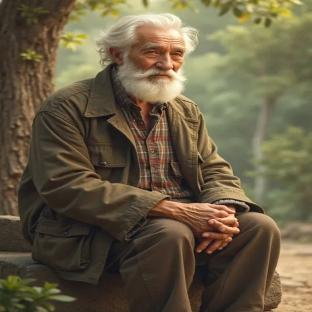Human: (18, 14, 279, 312)
